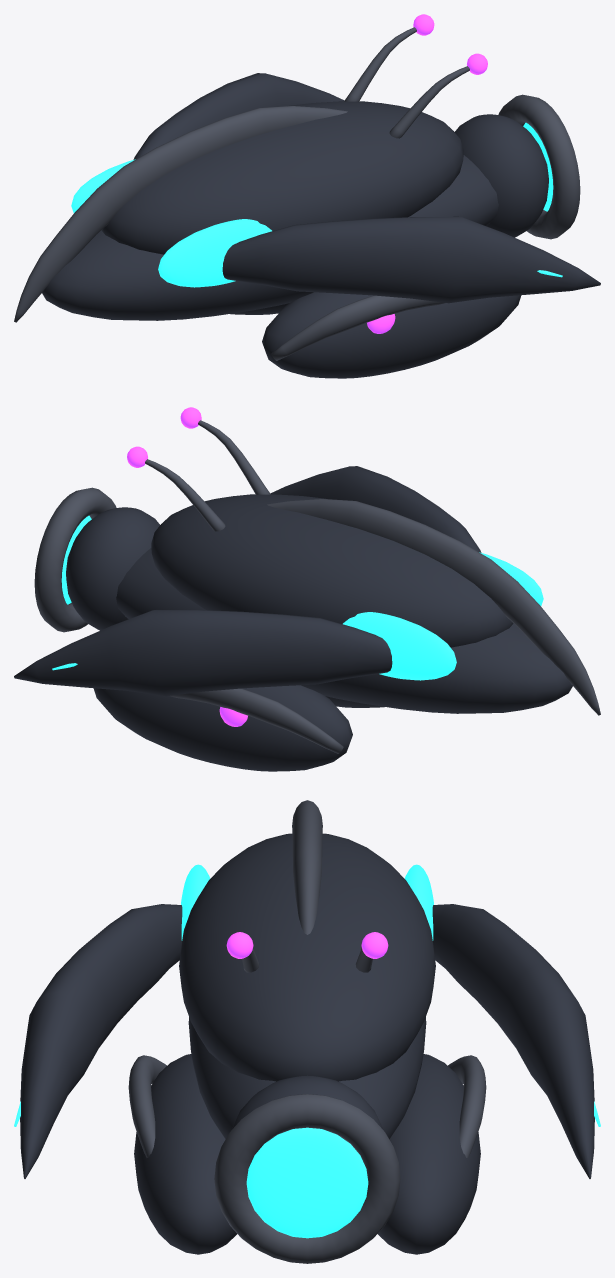
The model's file is alien_seed_carrier.glb.
3 renders of one model, top to bottom at view 1: azimuth 30°, elevation 25°; view 2: azimuth 150°, elevation 25°; view 3: azimuth 270°, elevation 25°, orthographic. The views are drawn at different scales.
Visible parts, largest first — view 1: UpperArmour, SweptWing, LowerHull, CargoShell, NoseRail, EngineShroud, SweptWing.001, RearEngineRing, SideCyanViewport, CargoRail, ReceiverProng, ReceiverProng.001 (+1 smaller); view 2: UpperArmour, SweptWing.001, LowerHull, CargoShell.001, NoseRail, EngineShroud, SweptWing, RearEngineRing, OtherCyanViewport, CargoRail.001, ReceiverProng.001, ReceiverProng (+1 smaller); view 3: UpperArmour, SweptWing, SweptWing.001, RearEngineRing, CargoShell, CargoShell.001, RearEngineLens, LowerHull, NoseRail, EngineShroud, CargoRail.001, CargoRail (+2 smaller).
Part boxes in pixels (<box>): UpperArmour: <box>101,101,463,254</box>; SweptWing: <box>222,216,600,303</box>; LowerHull: <box>42,155,498,320</box>; CargoShell: <box>262,292,521,378</box>; NoseRail: <box>14,106,347,322</box>; EngineShroud: <box>455,114,548,237</box>; SweptWing.001: <box>133,73,344,159</box>; RearEngineRing: <box>498,94,580,239</box>; SideCyanViewport: <box>158,219,271,287</box>; CargoRail: <box>271,295,444,360</box>; ReceiverProng: <box>389,66,469,138</box>; ReceiverProng.001: <box>344,27,416,101</box>; UpperArmour: <box>151,494,513,647</box>; SweptWing.001: <box>14,609,392,696</box>; LowerHull: <box>116,548,572,713</box>; CargoShell.001: <box>93,685,352,771</box>; NoseRail: <box>267,499,600,715</box>; EngineShroud: <box>66,507,159,630</box>; SweptWing: <box>270,466,481,552</box>; RearEngineRing: <box>34,487,116,632</box>; OtherCyanViewport: <box>343,612,456,680</box>; CargoRail.001: <box>170,688,343,753</box>; ReceiverProng.001: <box>145,459,225,531</box>; ReceiverProng: <box>198,420,270,494</box>; UpperArmour: <box>179,833,435,1081</box>; SweptWing: <box>20,904,182,1178</box>; SweptWing.001: <box>432,904,594,1178</box>; RearEngineRing: <box>214,1094,400,1263</box>; CargoShell: <box>134,1054,236,1254</box>; CargoShell.001: <box>378,1054,480,1254</box>; RearEngineLens: <box>246,1127,368,1238</box>; LowerHull: <box>188,1017,426,1139</box>; NoseRail: <box>292,800,322,934</box>; EngineShroud: <box>231,1075,383,1142</box>; CargoRail.001: <box>448,1055,486,1157</box>; CargoRail: <box>128,1055,166,1157</box>.
Size of the model in its own units: 2.43 by 1.19 by 1.83.
